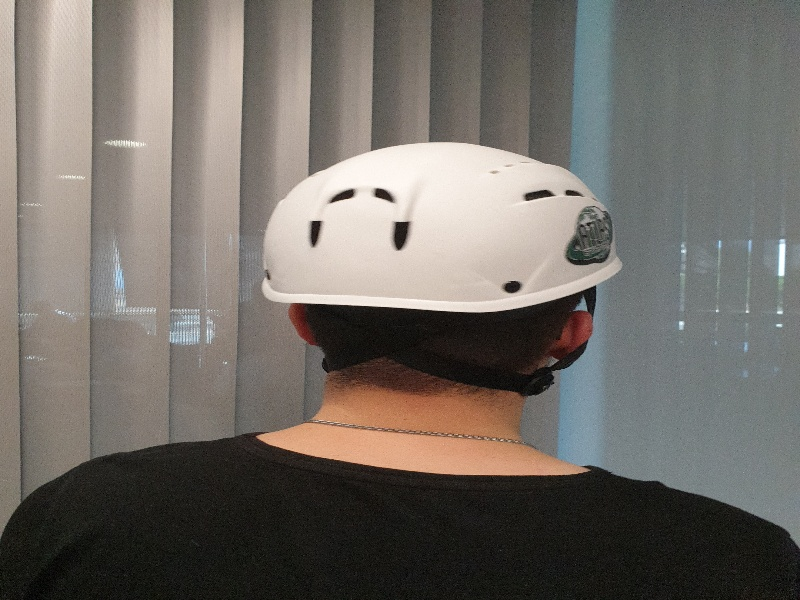Baret: (262, 141, 629, 308)
